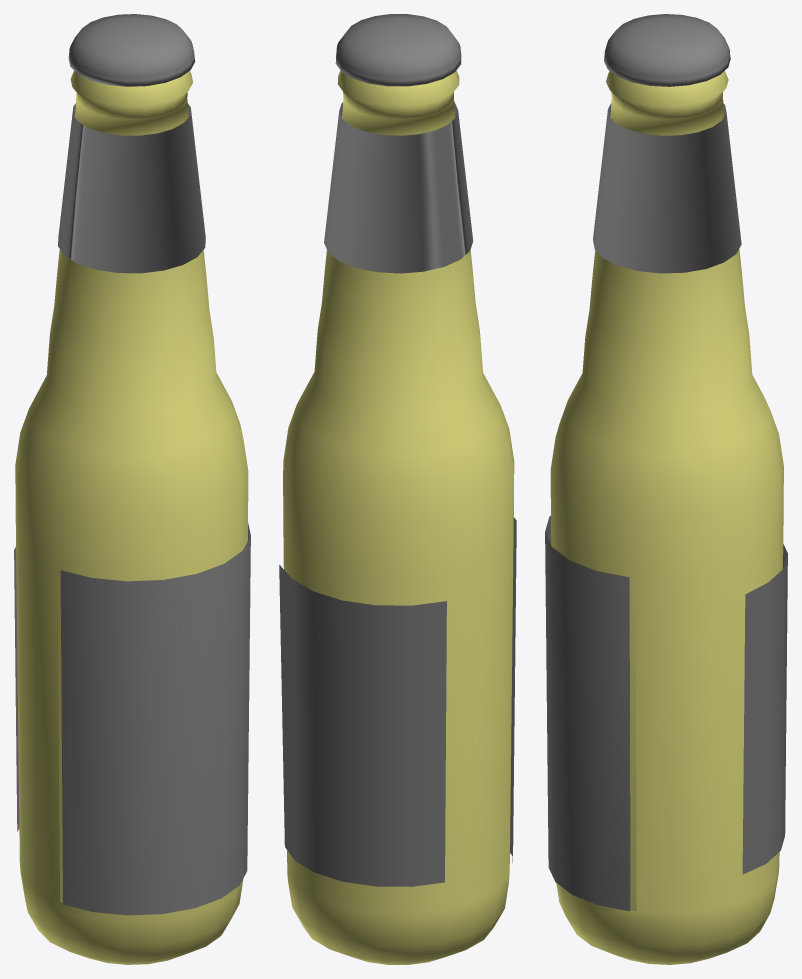
Rendered from SM_Applesby.FBX.
3 views of the same model, side by side, from view 1: azimuth 30°, elevation 25°; view 2: azimuth 150°, elevation 25°; view 3: azimuth 270°, elevation 25° (orthographic).
Visible parts, largest first — view 1: SM_Applesby_LOD0; view 2: SM_Applesby_LOD0; view 3: SM_Applesby_LOD0.
Boxes of the visible parts, x1,y1,x2,y2 form: SM_Applesby_LOD0: [14, 14, 250, 964]; SM_Applesby_LOD0: [279, 14, 516, 964]; SM_Applesby_LOD0: [545, 14, 787, 964].
Size of what is drawn, in the model's own units: 10.5 by 45.1 by 10.93.
